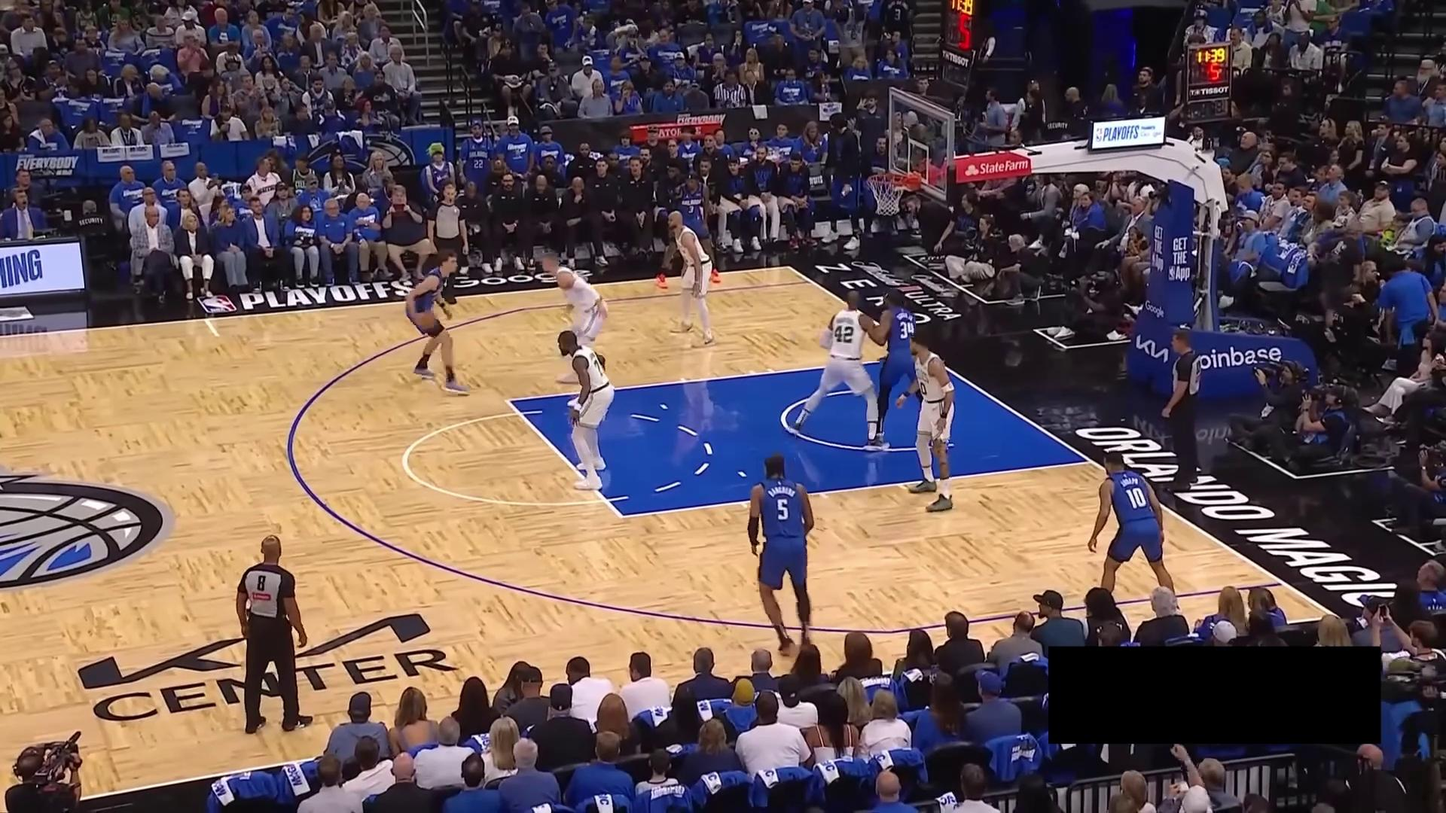ball: (417, 309, 437, 330)
number: (1125, 486, 1148, 509), (834, 324, 854, 344), (776, 498, 789, 521), (899, 321, 914, 340), (593, 359, 605, 376), (918, 380, 929, 395), (687, 203, 695, 215)
player: (785, 288, 890, 452), (1087, 450, 1183, 616), (746, 452, 817, 657), (895, 333, 956, 513), (868, 288, 929, 452), (557, 329, 615, 494), (541, 251, 609, 384), (656, 169, 722, 290), (666, 210, 715, 348)
player-in-possession: (404, 248, 471, 396)
referee: (236, 534, 313, 735), (1161, 327, 1203, 491), (426, 181, 469, 305)
rim: (867, 172, 907, 186)
